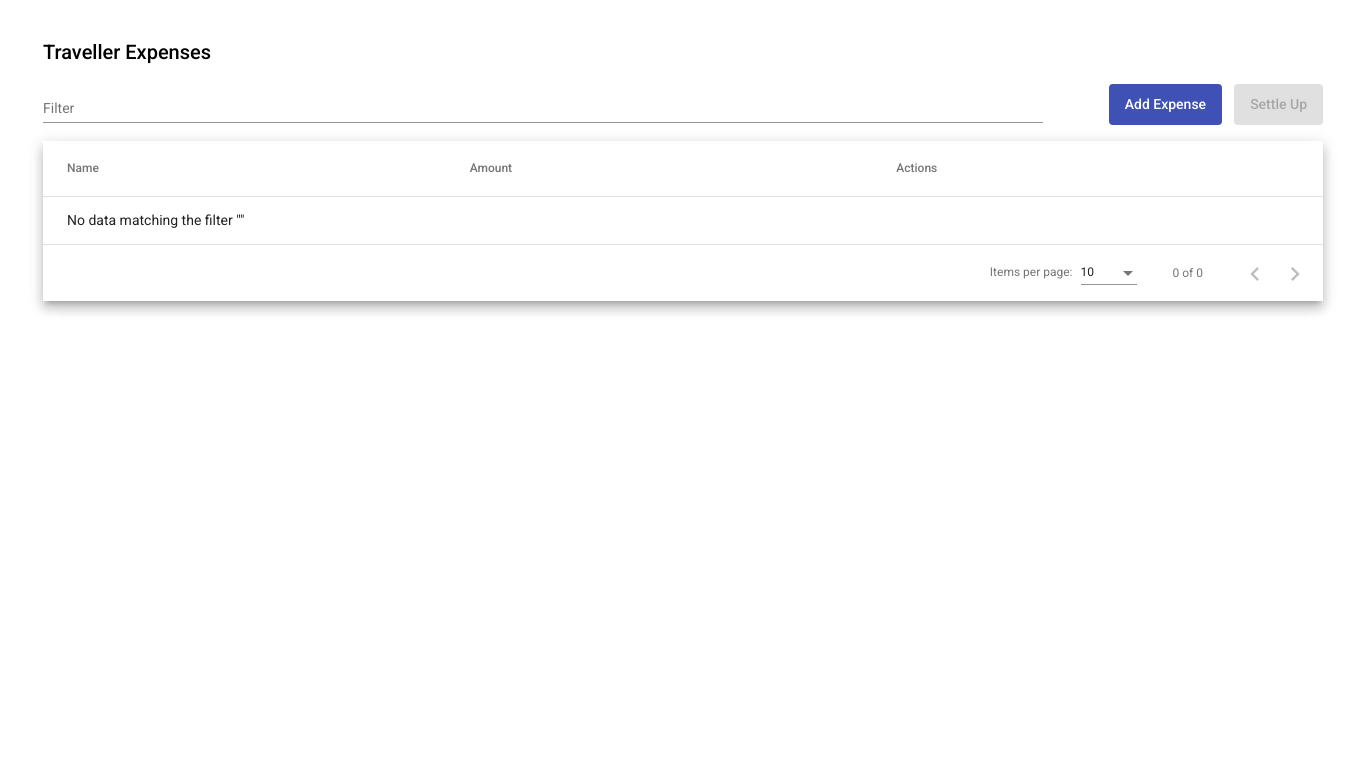
Test case: Major Test case › should open add expense model and name,amount,Submit,Close Button fields should exist
The image size is (1366, 768).
Click the button "Add Expense": (1166, 105) [1109,84,1222,125]
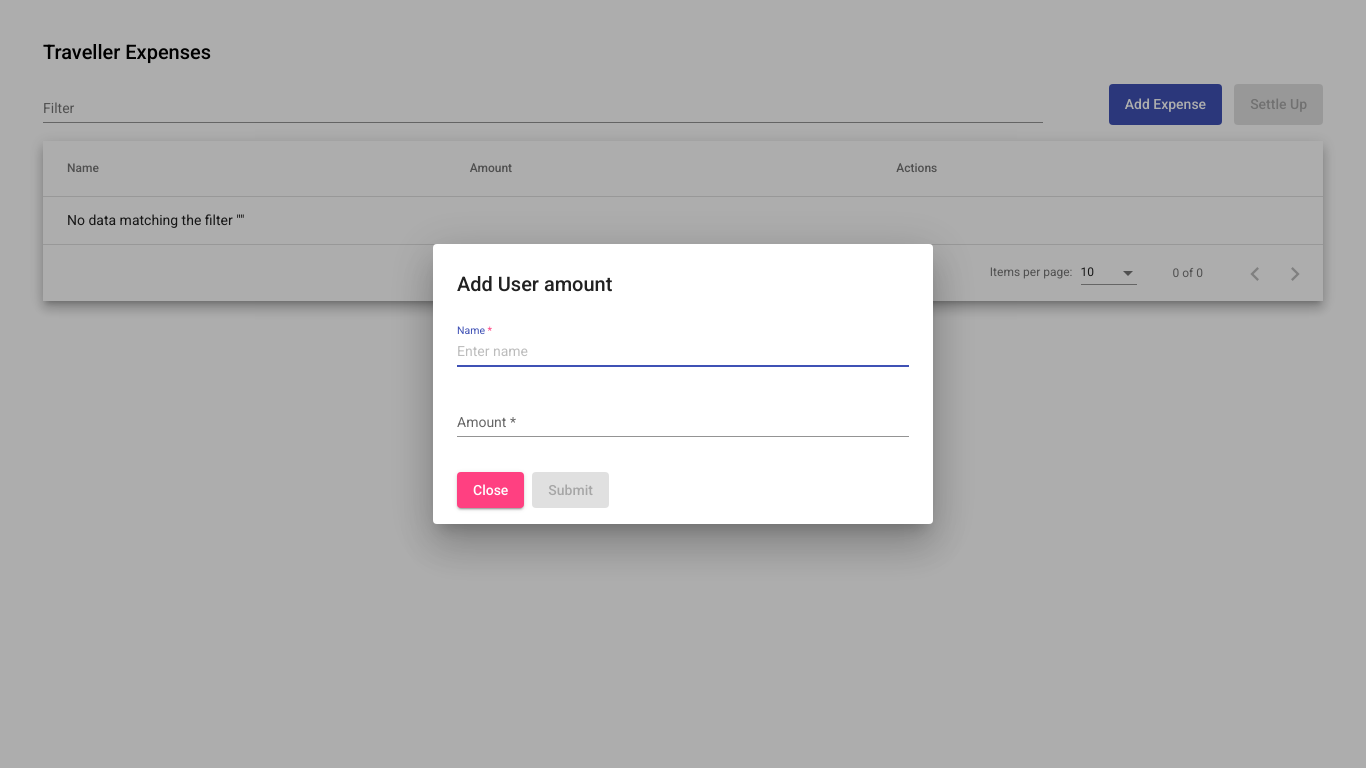
Now the heading "Add User amount" is shown, box [457,272,612,296]
Now the button "Submit" is shown, box [532,472,609,508]
Now the button "Close" is shown, box [457,472,524,508]
